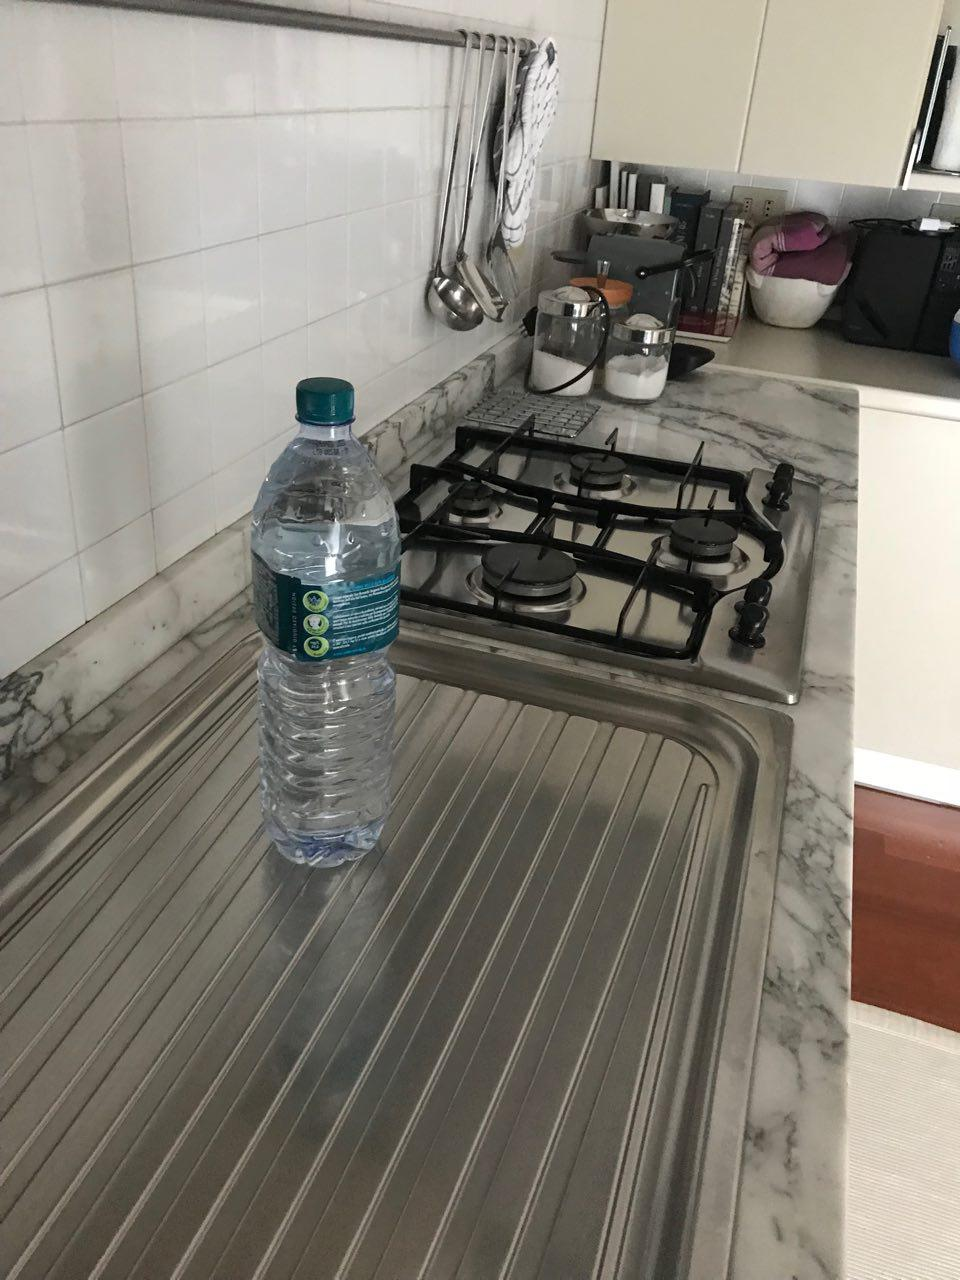san_bernardo: (250, 377, 402, 867)
